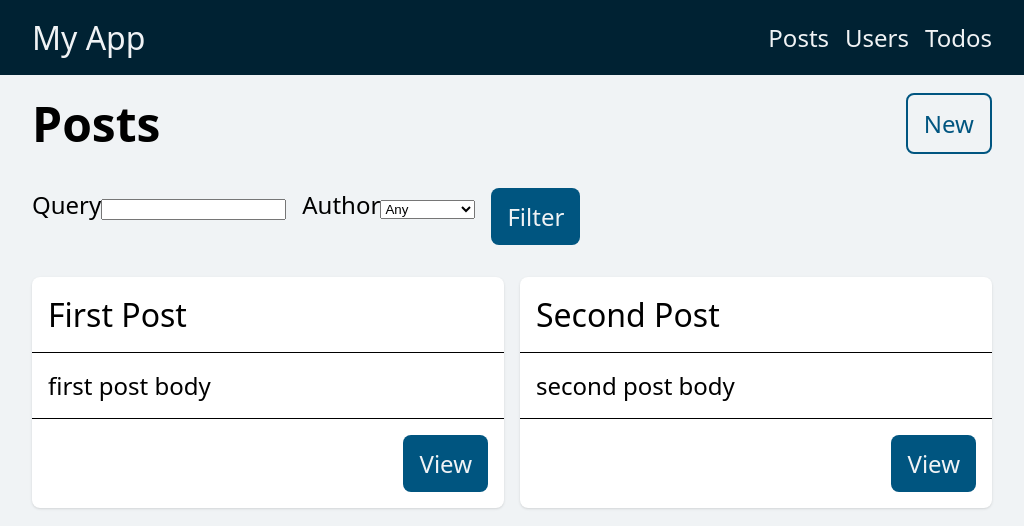
Test: PostList page › properly filters the post list based on filter inputs
Expected: the text "first post" is shown, [32,277,504,353]
Expected: the text "second post" is shown, [520,277,992,353]
Type "first" into the search field labelled "Query" at (194, 210), box [101,199,286,220]
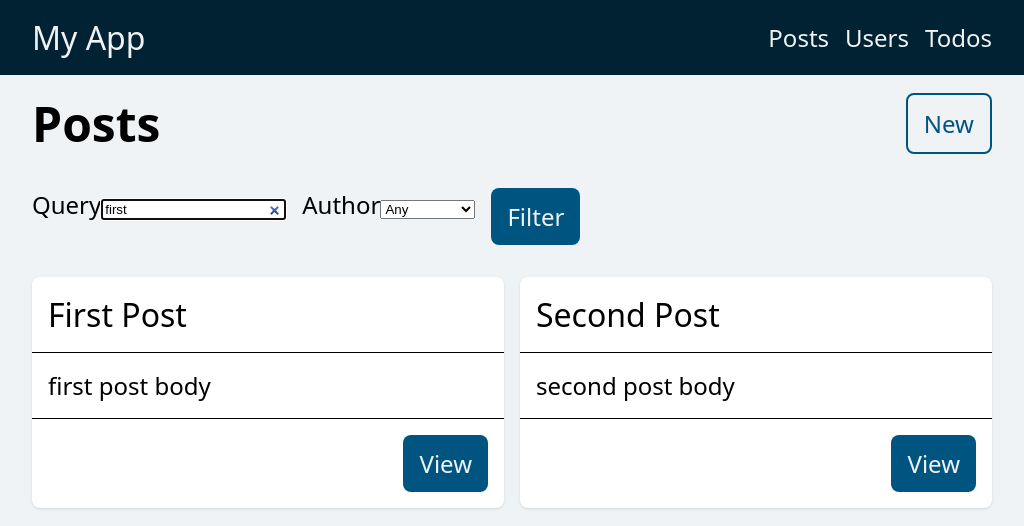
Click the button "Filter" at (536, 216), box [491,188,580,245]
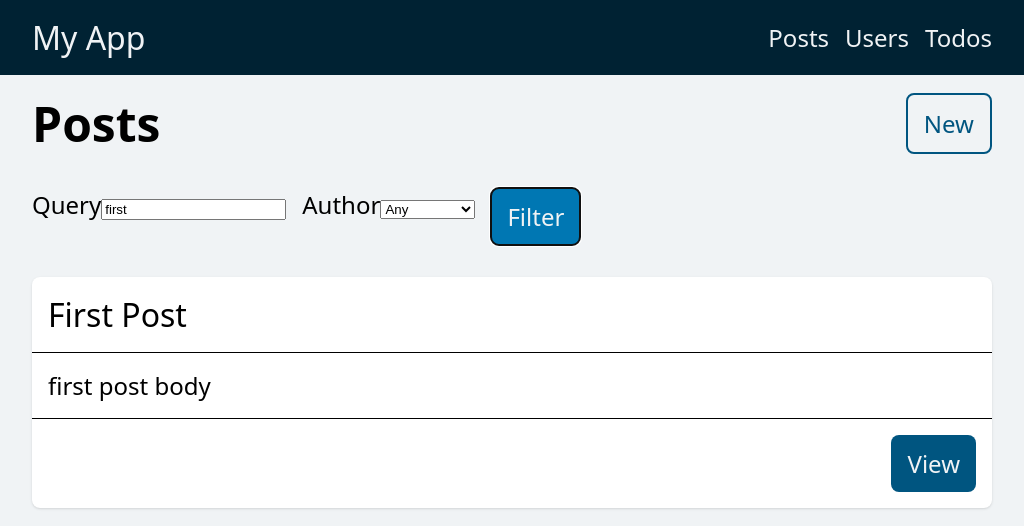
Expected: the text "first post" is shown, [32,277,992,353]
Result: the text "second post" is gone
Select "second user" in the dropdown labelled "Author" at (428, 210), box [380,200,475,219]
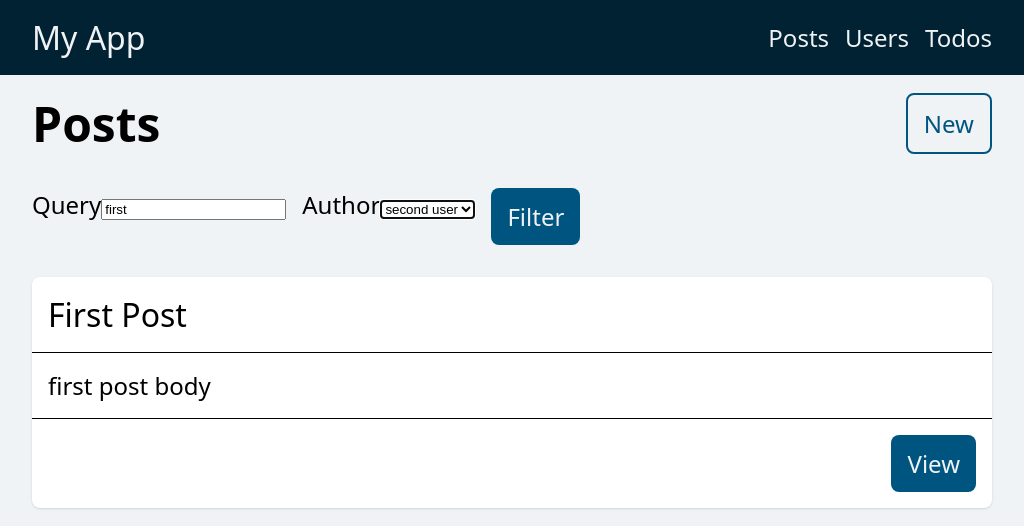
Clear the search field labelled "Query" at (194, 210), box [101,199,286,220]
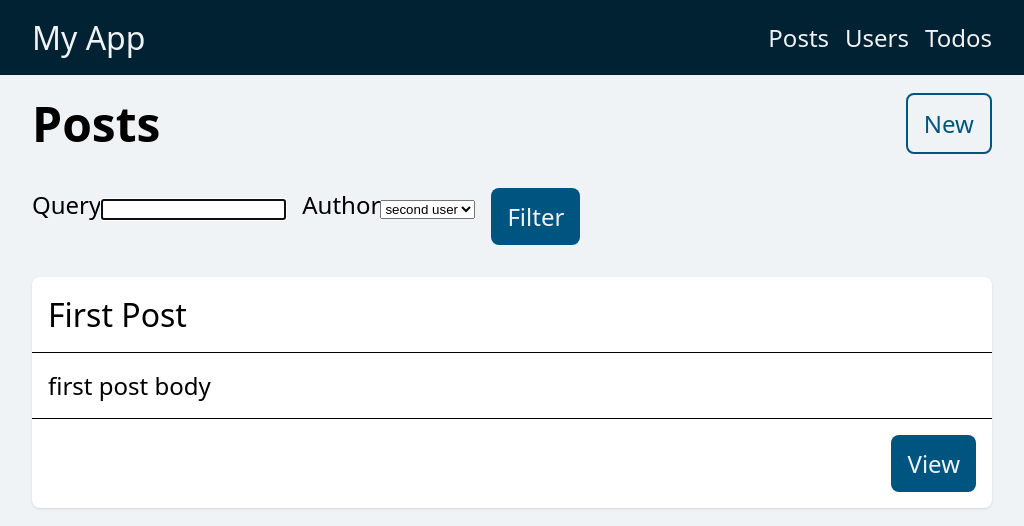
Click the button "Filter" at (536, 216), box [491,188,580,245]
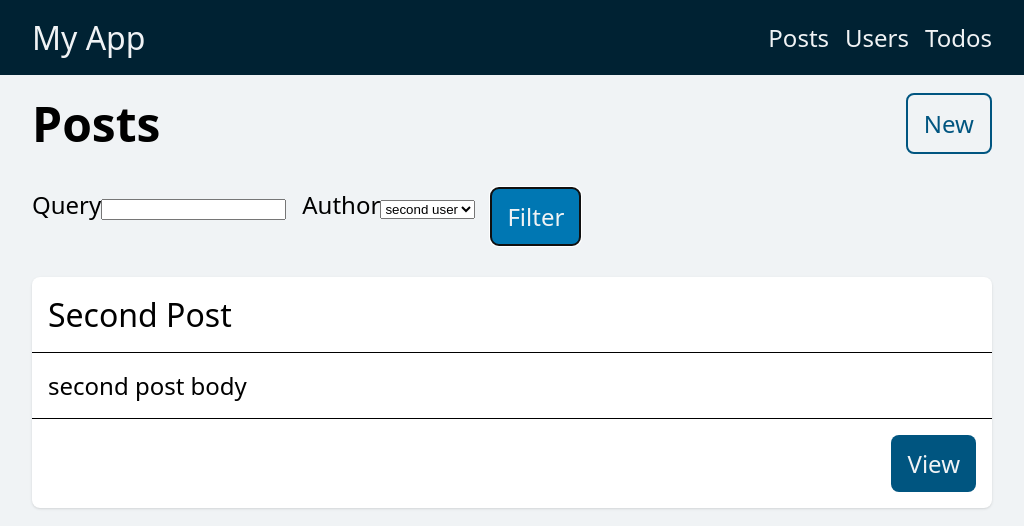
Result: the text "first post" is gone
Result: the text "second post" is shown at [32,277,992,353]
